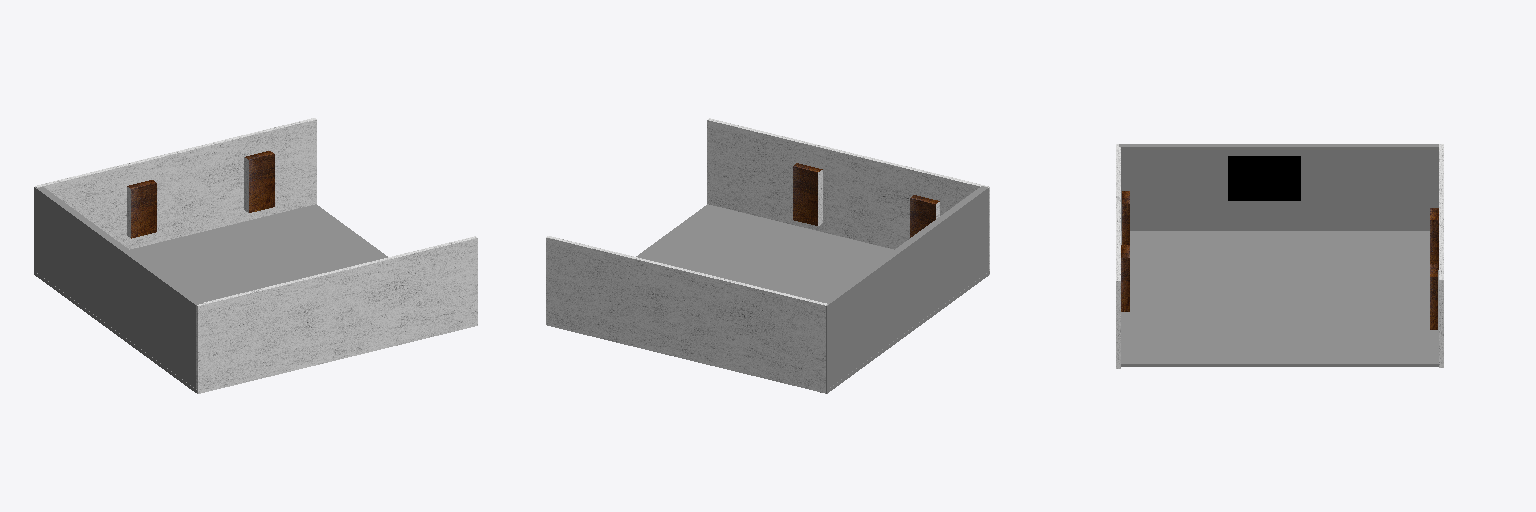
3 renders of one model, left to right at view 1: azimuth 30°, elevation 25°; view 2: azimuth 150°, elevation 25°; view 3: azimuth 270°, elevation 25°, orthographic.
Visible parts, largest first — view 1: Cube.004_Cube.006, Cube.003, Cube.001_Cube.002, Cube.005_Cube.001; view 2: Cube.003, Cube.004_Cube.006, Cube.001_Cube.002, Cube.005_Cube.001; view 3: Cube.005_Cube.001, Cube.001_Cube.002, Cube.009_Cube.010, Cube.003, Cube.004_Cube.006.
Part boxes in pixels (bbox=[...]): Cube.004_Cube.006: bbox=[196, 236, 477, 393]; Cube.003: bbox=[35, 118, 316, 249]; Cube.001_Cube.002: bbox=[34, 187, 202, 392]; Cube.005_Cube.001: bbox=[35, 204, 387, 392]; Cube.003: bbox=[546, 236, 827, 393]; Cube.004_Cube.006: bbox=[707, 118, 989, 274]; Cube.001_Cube.002: bbox=[820, 186, 988, 393]; Cube.005_Cube.001: bbox=[636, 204, 989, 391]; Cube.005_Cube.001: bbox=[1121, 231, 1438, 366]; Cube.001_Cube.002: bbox=[1119, 144, 1438, 230]; Cube.009_Cube.010: bbox=[1228, 156, 1300, 200]; Cube.003: bbox=[1430, 144, 1443, 367]; Cube.004_Cube.006: bbox=[1116, 144, 1129, 368].
Size of the model in its own units: 61.16 by 18.39 by 61.63.
Materials: 4 (2 with a texture image).